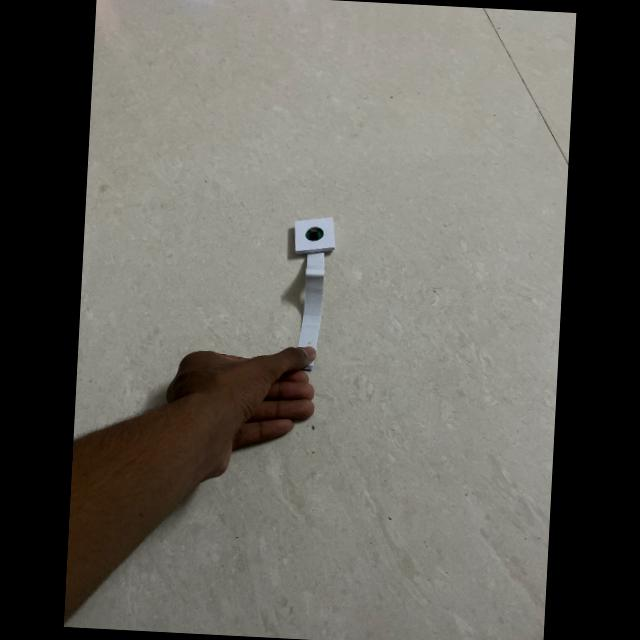RASPBERY PI CAM ENCLOSURE: (292, 215, 336, 258)
